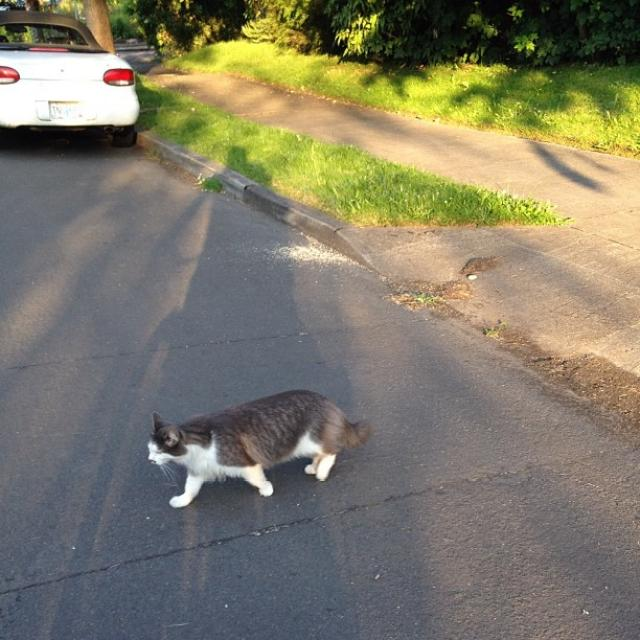cats: (143, 390, 380, 511)
